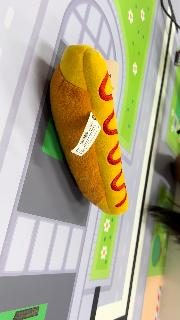hotdog: (49, 44, 129, 216)
